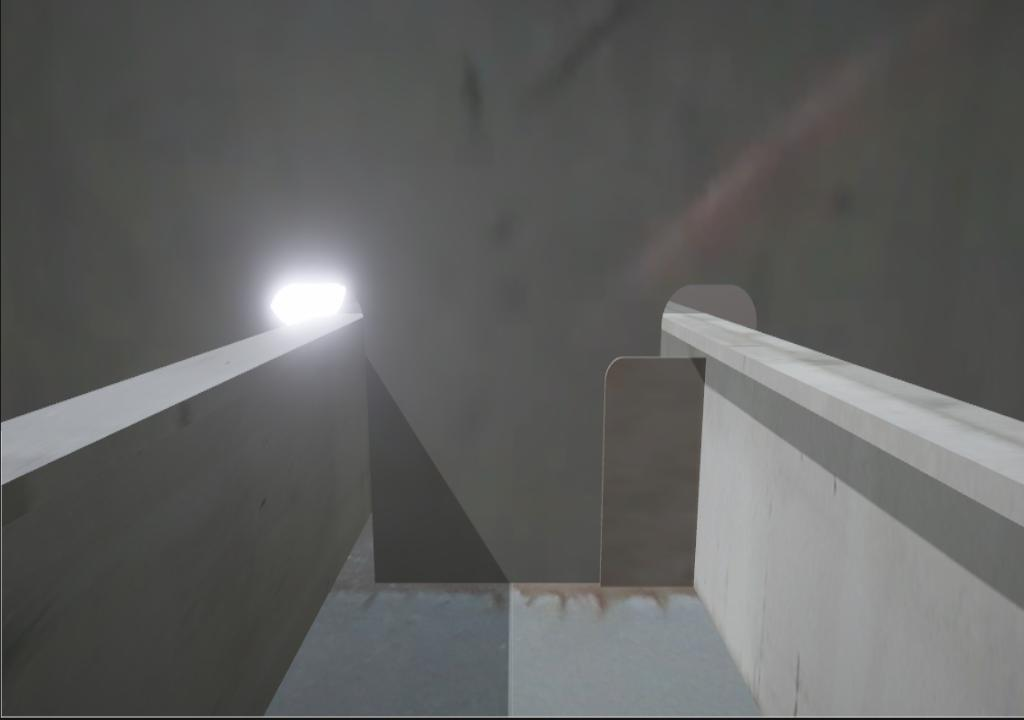fillet_yong_jeop_jang: (374, 572, 601, 591)
plate_CP05: (600, 357, 706, 587)
